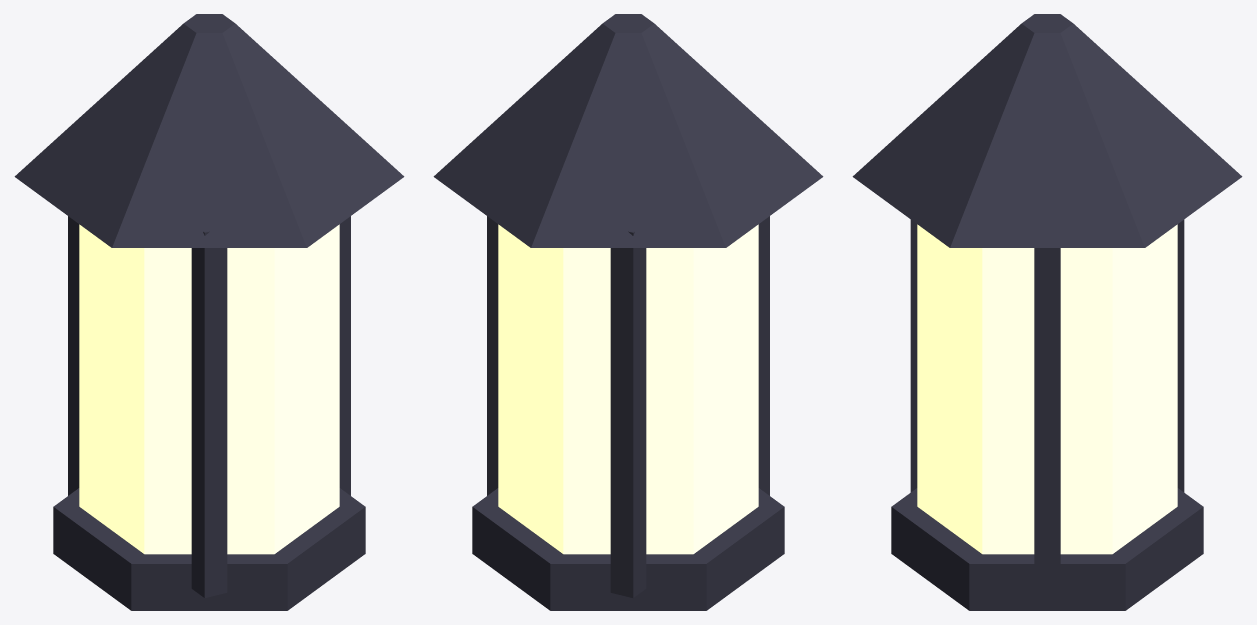
The model's file is cresset_lantern.glb.
3 renders of one model, left to right at view 1: azimuth 30°, elevation 25°; view 2: azimuth 150°, elevation 25°; view 3: azimuth 270°, elevation 25°, orthographic.
Parts seen in each view (by area): view 1: ink_l15, kindle_glow; view 2: ink_l15, kindle_glow; view 3: ink_l15, kindle_glow.
Boxes of the visible parts, box(x1,y1,x2,y2) form: ink_l15: box(14, 14, 404, 610); kindle_glow: box(79, 224, 339, 554); ink_l15: box(433, 14, 823, 610); kindle_glow: box(498, 224, 758, 554); ink_l15: box(852, 14, 1242, 610); kindle_glow: box(917, 224, 1177, 554).
Size of the model in its own units: 0.2598 by 0.45 by 0.3.
